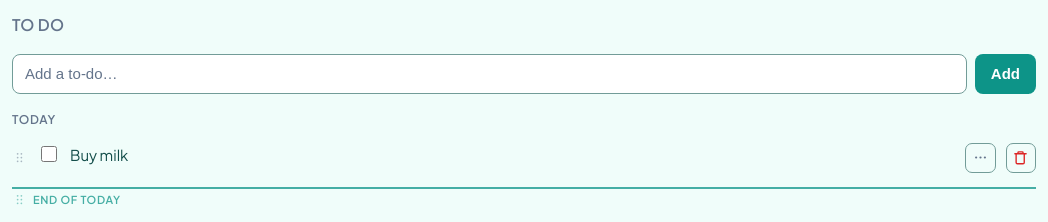
TodoSection — edit › edit reverts to the original text when the request fails
Step 1. Click the button with test id "todo-description-t-1" → [99, 154], box [70,143,955,167]
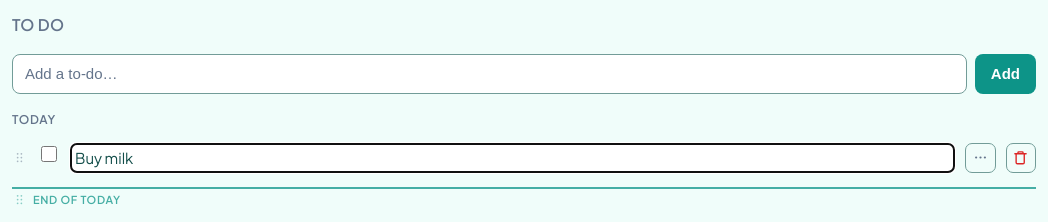
Step 2. Replace the text in the field with test id "edit-todo-input-t-1" with "New text" → [513, 158], box [70,143,955,173]
Then press Enter
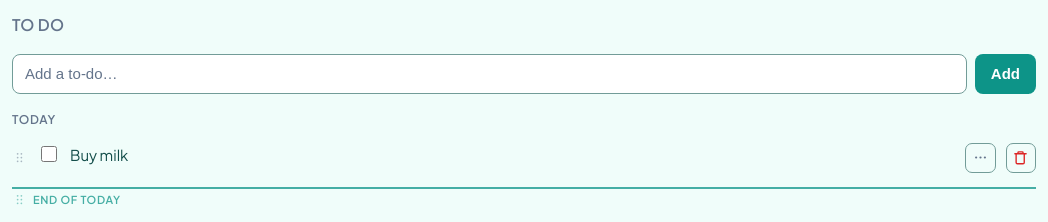
Result: the button "Buy milk" is shown at [70,143,955,167]
